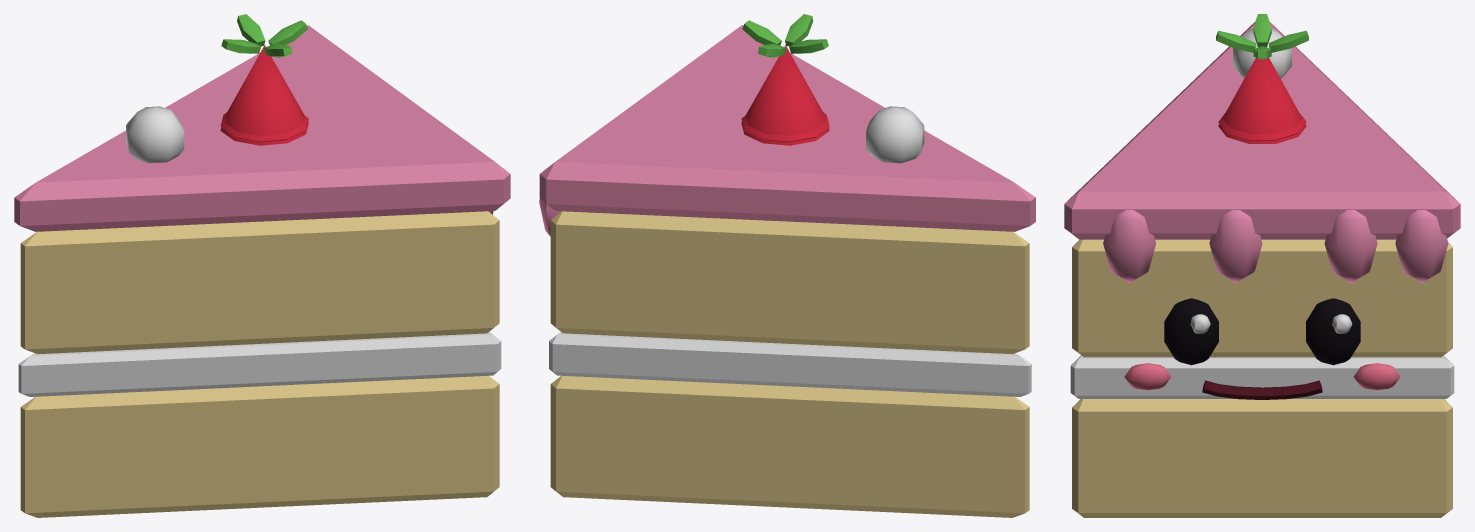
The model's file is cake_slice.glb.
3 renders of one model, left to right at view 1: azimuth 30°, elevation 25°; view 2: azimuth 150°, elevation 25°; view 3: azimuth 270°, elevation 25°, orthographic. The views are drawn at different scales.
Visible parts, largest first — view 1: cake_slice; view 2: cake_slice; view 3: cake_slice.
Boxes of the visible parts, <box> form: cake_slice: <box>14,14,510,517</box>; cake_slice: <box>539,14,1035,517</box>; cake_slice: <box>1064,14,1460,517</box>.
Size of the model in its own units: 0.5278 by 0.5265 by 0.4479.
